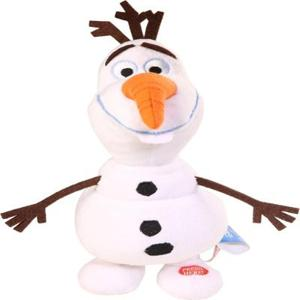olaf: (32, 7, 299, 295)
